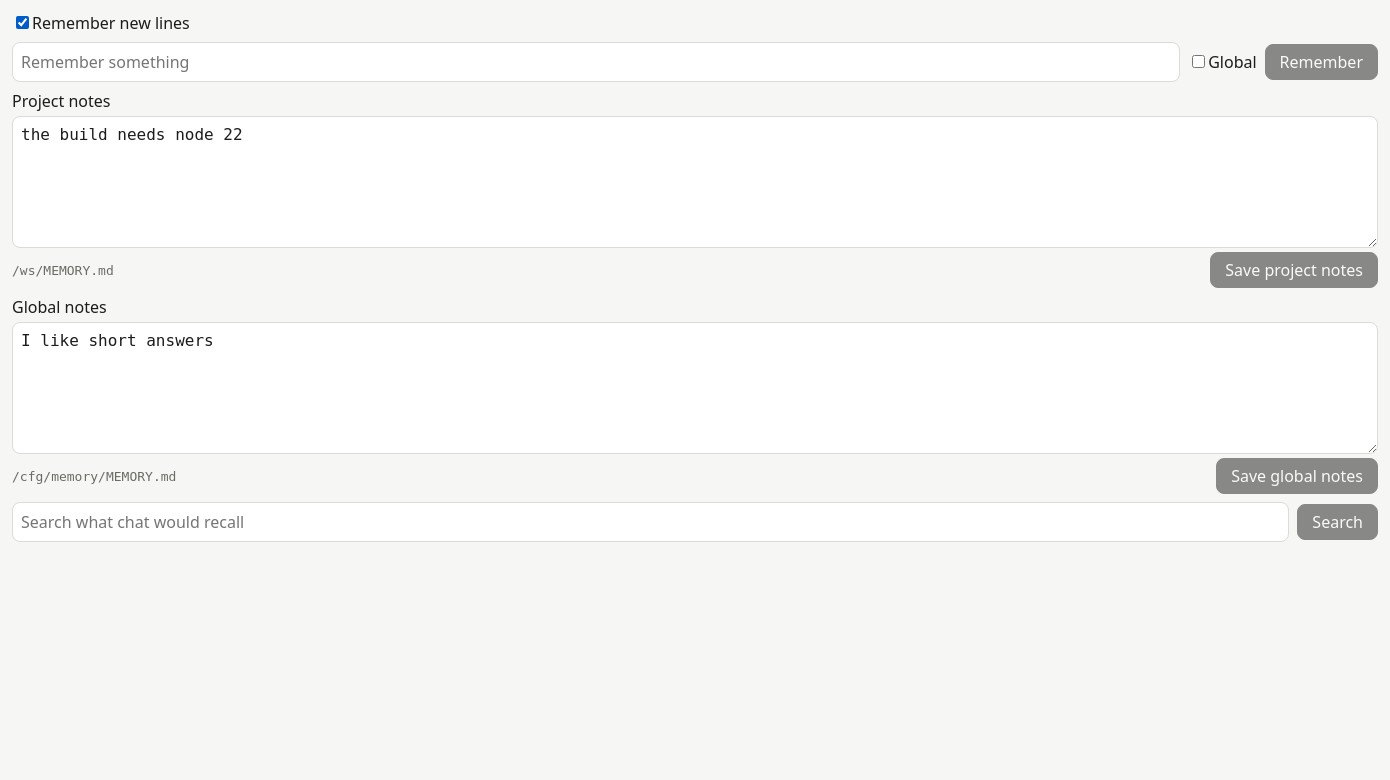
Test: Memory › Remember adds a global note and shows the status
Type " deploys on fridays " into the field named "New note".
click(596, 62); type(" deploys on fridays ")  # box x1=12 y1=42 x2=1180 y2=82
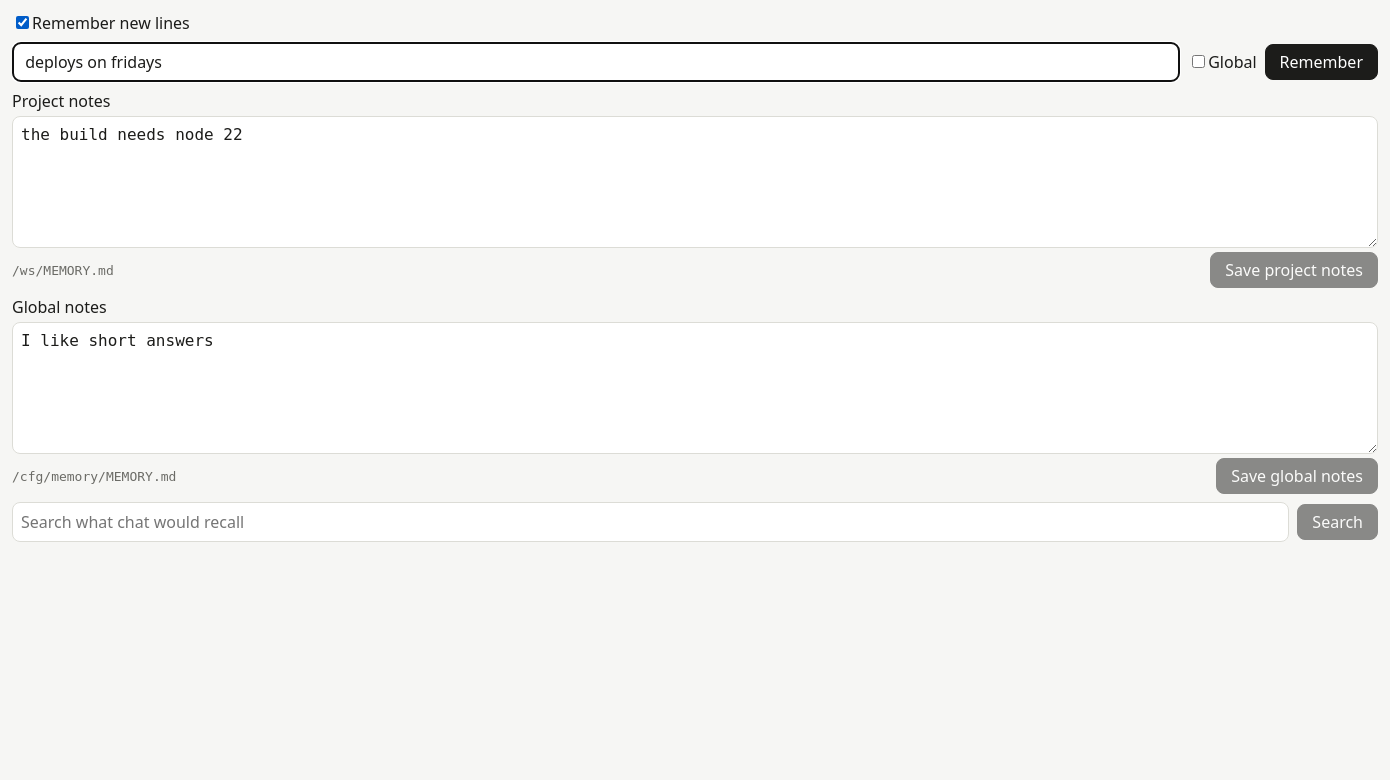
Click the checkbox labelled "Global".
click(1199, 62)  # box x1=1192 y1=55 x2=1205 y2=68
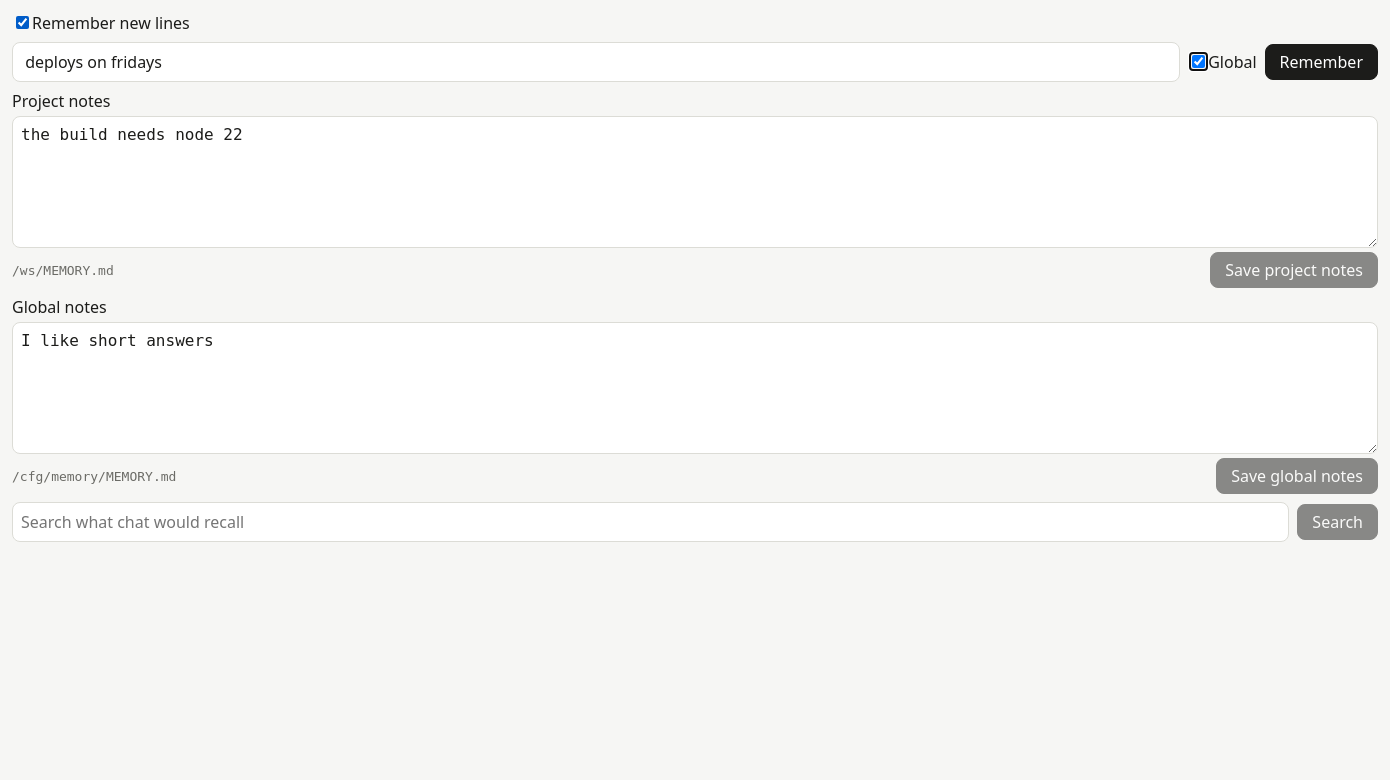
Click the button "Remember".
click(1321, 62)  # box x1=1265 y1=44 x2=1378 y2=80
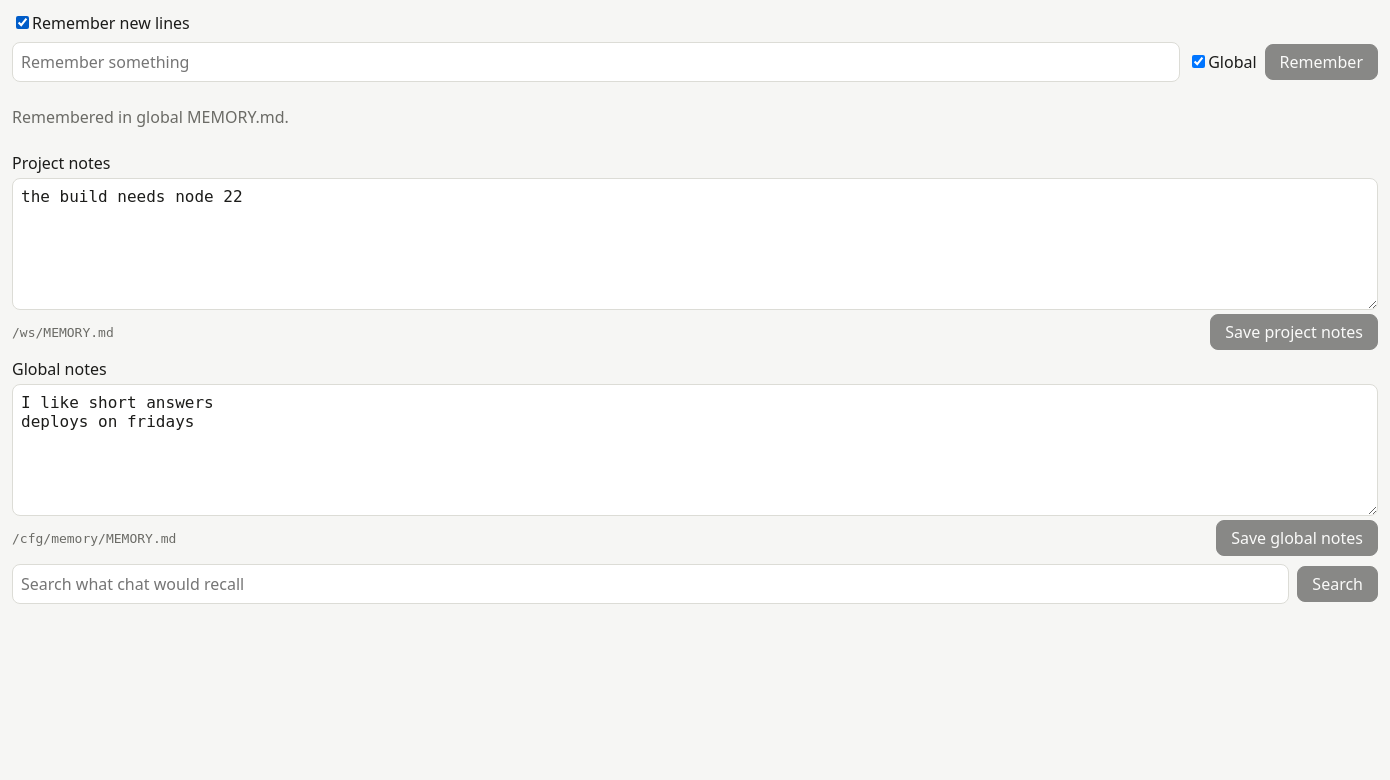
Check: the text "Remembered in global MEMORY.md." is shown, box x1=12 y1=106 x2=289 y2=128
Check: the field named "New note" is empty, box x1=12 y1=42 x2=1180 y2=82
